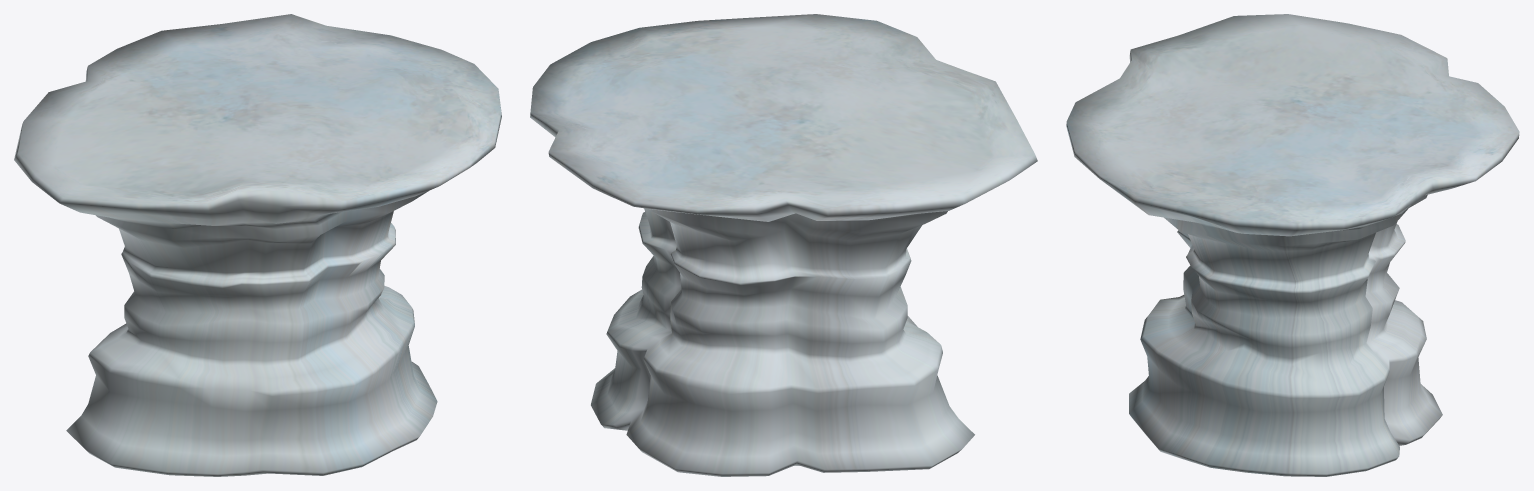
The model's file is P_RockDesert_Layered07.obj.
The picture shows the model from 3 angles, left to right: view 1: azimuth 30°, elevation 25°; view 2: azimuth 150°, elevation 25°; view 3: azimuth 270°, elevation 25°; orthographic projection. The views are drawn at different scales.
Bounding box in the file's own units: 48.12 × 32.4 × 43.33.
